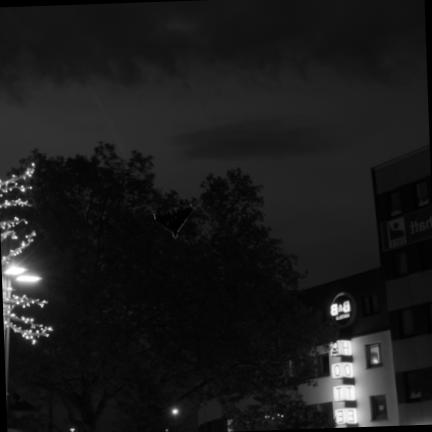Shahed: (155, 205, 192, 238)
